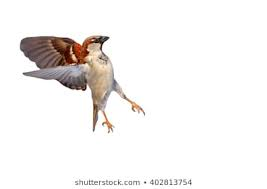hsparrow: (15, 31, 152, 134)
